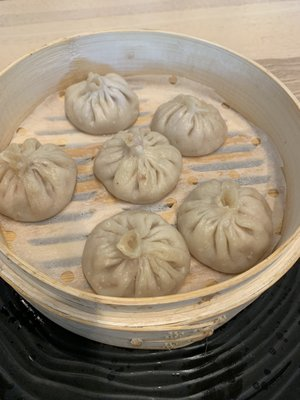pasta: (176, 178, 276, 275)
sushi: (3, 29, 300, 354)
